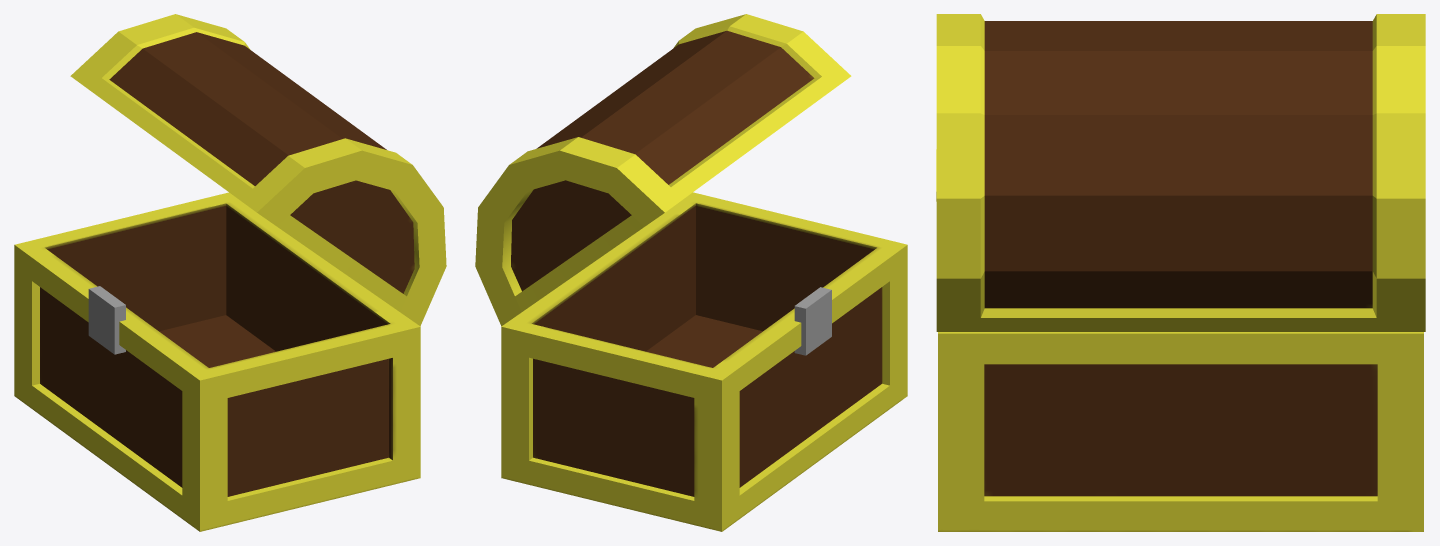
Rendered from Chest Empty 1.fbx.
3 renders of one model, left to right at view 1: azimuth 30°, elevation 25°; view 2: azimuth 150°, elevation 25°; view 3: azimuth 270°, elevation 25°, orthographic. The views are drawn at different scales.
Parts seen in each view (by area): view 1: ChestEmpty_1; view 2: ChestEmpty_1; view 3: ChestEmpty_1.
Part boxes in pixels (x1=…): ChestEmpty_1: x1=14, y1=14, x2=446, y2=531; ChestEmpty_1: x1=475, y1=14, x2=907, y2=531; ChestEmpty_1: x1=936, y1=14, x2=1425, y2=531.
Bounding box in the file's own units: 114 × 148 × 146.
1 material, 1 textured.
